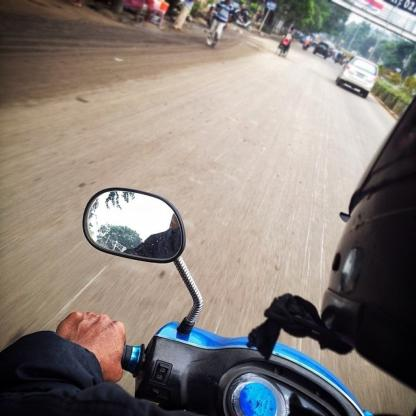Helmet: (244, 91, 415, 396)
